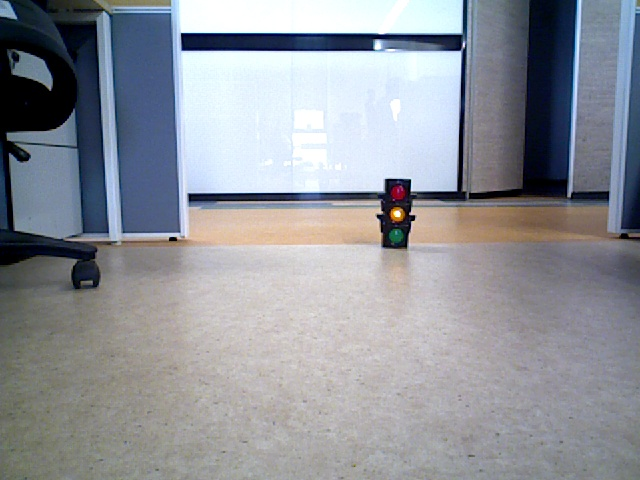yellow: (381, 181, 407, 247)
